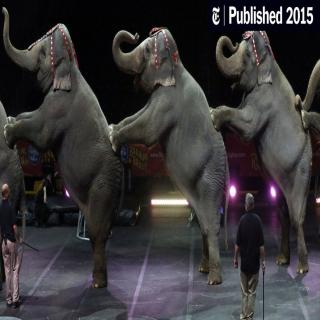Elephant: (1, 1, 130, 300), (110, 18, 232, 288), (213, 27, 317, 276)
